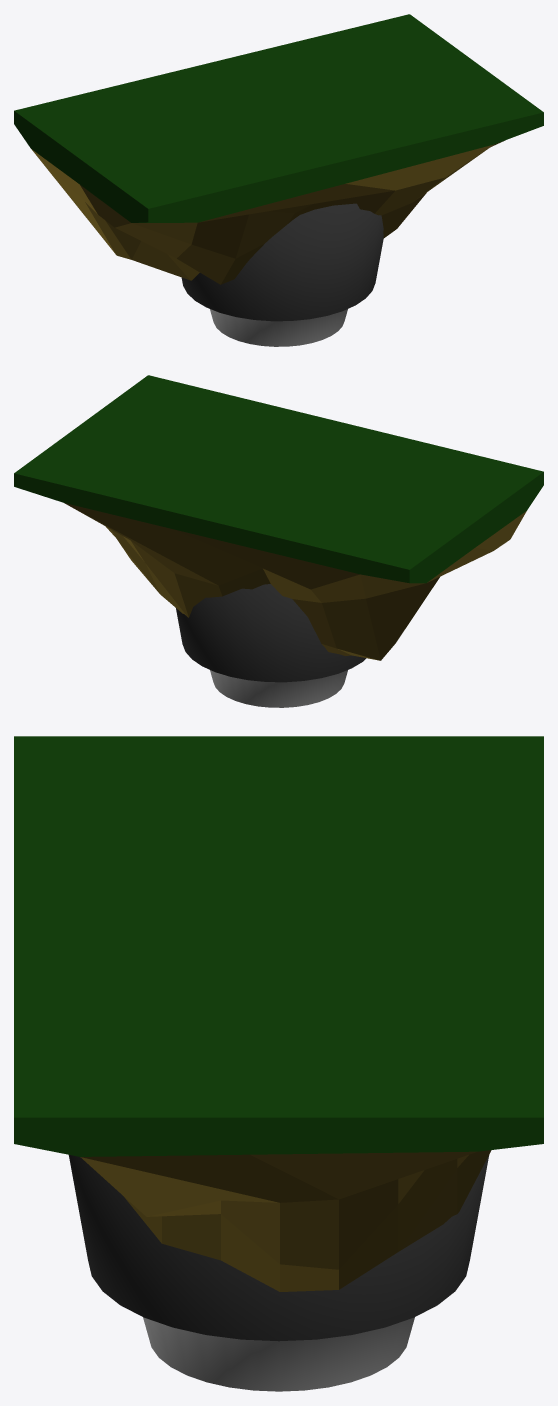
File: Island3.fbx
3 views of the same model, one above another, from view 1: azimuth 30°, elevation 25°; view 2: azimuth 150°, elevation 25°; view 3: azimuth 270°, elevation 25° (orthographic). The views are drawn at different scales.
Visible parts, largest first — view 1: Island3; view 2: Island3; view 3: Island3.
Part boxes in pixels (<box>): Island3: <box>14,14,543,346</box>; Island3: <box>14,375,543,707</box>; Island3: <box>14,736,543,1391</box>.
Size of the model in its own units: 6290 by 3153 by 3696.
